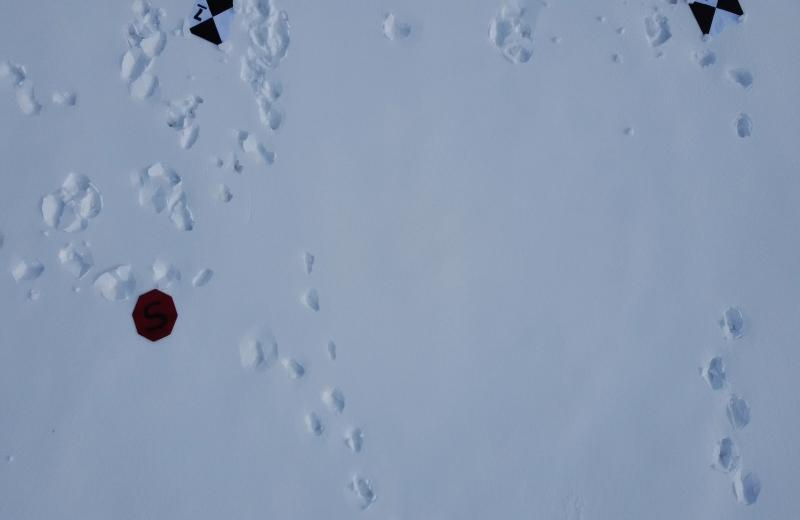Octagon: (132, 287, 178, 347)
